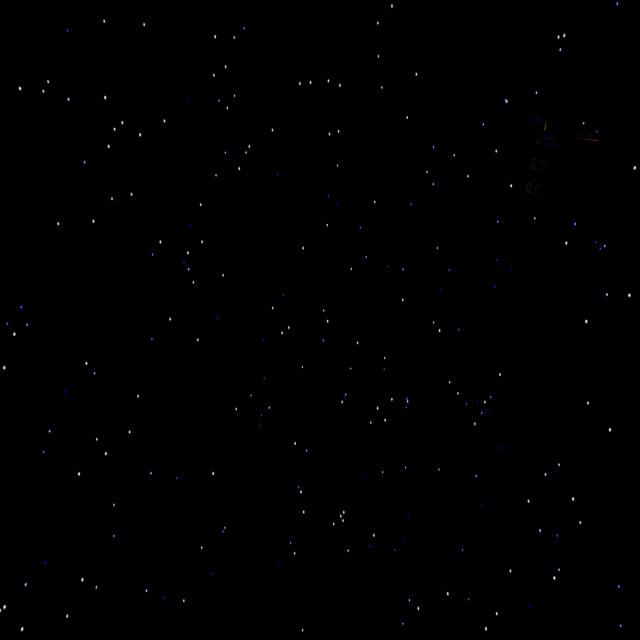satellite: (479, 111, 602, 221)
